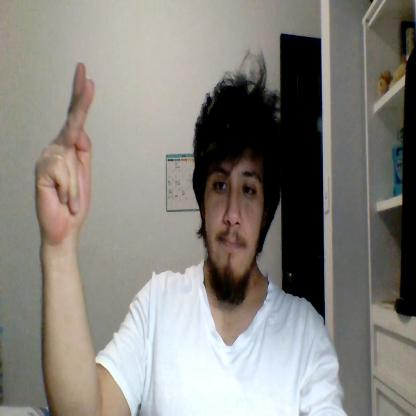P: (34, 62, 95, 244)
